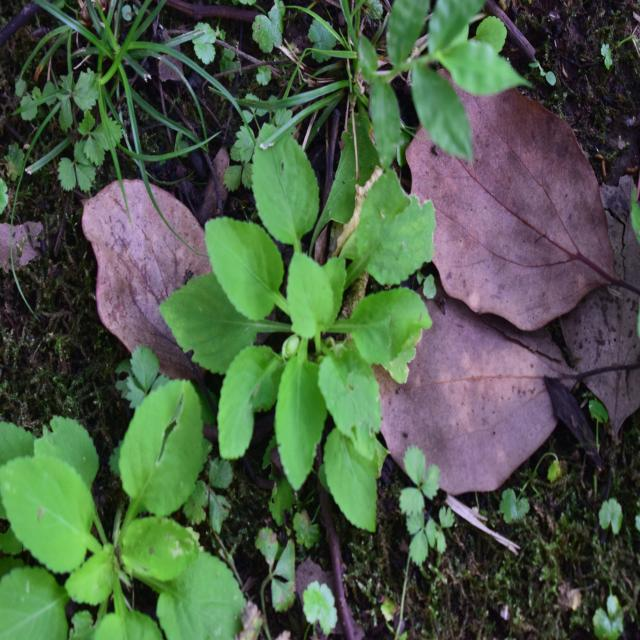Viola: (196, 137, 454, 507)
